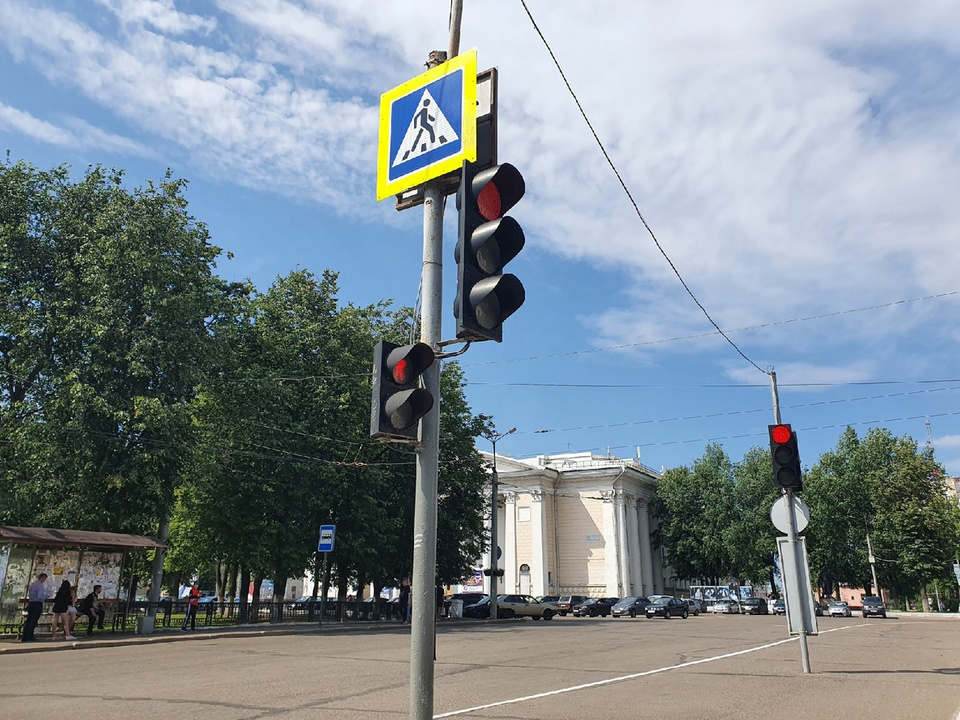tl: (456, 157, 519, 347), (763, 424, 807, 491)
